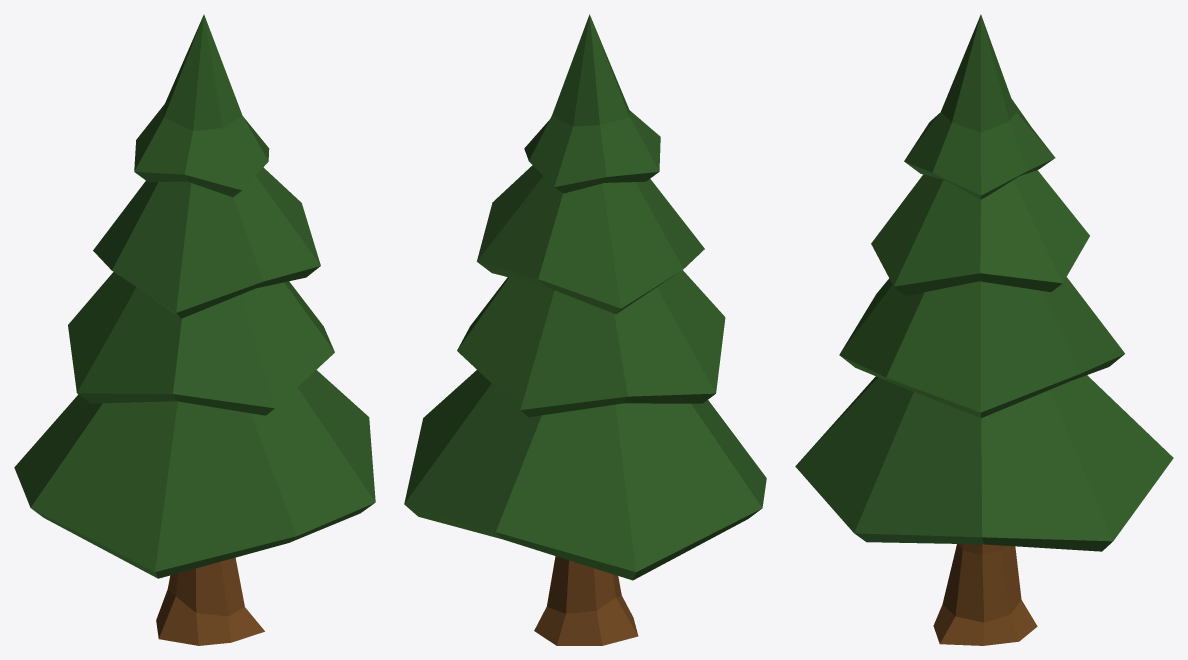
File: tree01.fbx
The picture shows the model from 3 angles, left to right: view 1: azimuth 30°, elevation 25°; view 2: azimuth 150°, elevation 25°; view 3: azimuth 270°, elevation 25°; orthographic projection.
Visible parts, largest first — view 1: Tree_Spruce_small_01; view 2: Tree_Spruce_small_01; view 3: Tree_Spruce_small_01.
Part boxes in pixels (<box>): Tree_Spruce_small_01: <box>14,14,375,645</box>; Tree_Spruce_small_01: <box>404,14,766,645</box>; Tree_Spruce_small_01: <box>795,14,1173,645</box>.
Size of the model in its own units: 1058 by 1826 by 1026.
